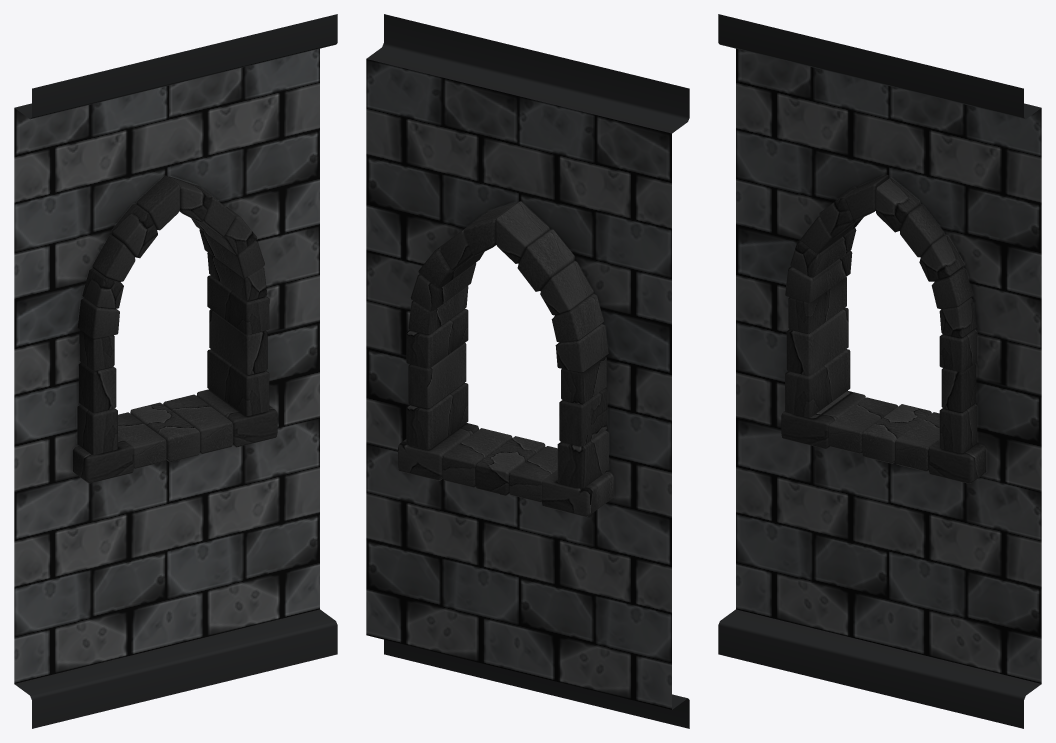
File: M_WallWindow_Little.fbx
The picture shows the model from 3 angles, left to right: view 1: azimuth 30°, elevation 25°; view 2: azimuth 150°, elevation 25°; view 3: azimuth 330°, elevation 25°; orthographic projection.
Parts seen in each view (by area): view 1: WallWindow:Wall_Big3; view 2: WallWindow:Wall_Big3; view 3: WallWindow:Wall_Big3.
Boxes of the visible parts, left/top/right/bottom form: WallWindow:Wall_Big3: left=14, top=14, right=337, bottom=728; WallWindow:Wall_Big3: left=366, top=14, right=689, bottom=728; WallWindow:Wall_Big3: left=718, top=14, right=1041, bottom=728.
Size of the model in its own units: 200 by 400 by 49.35.
